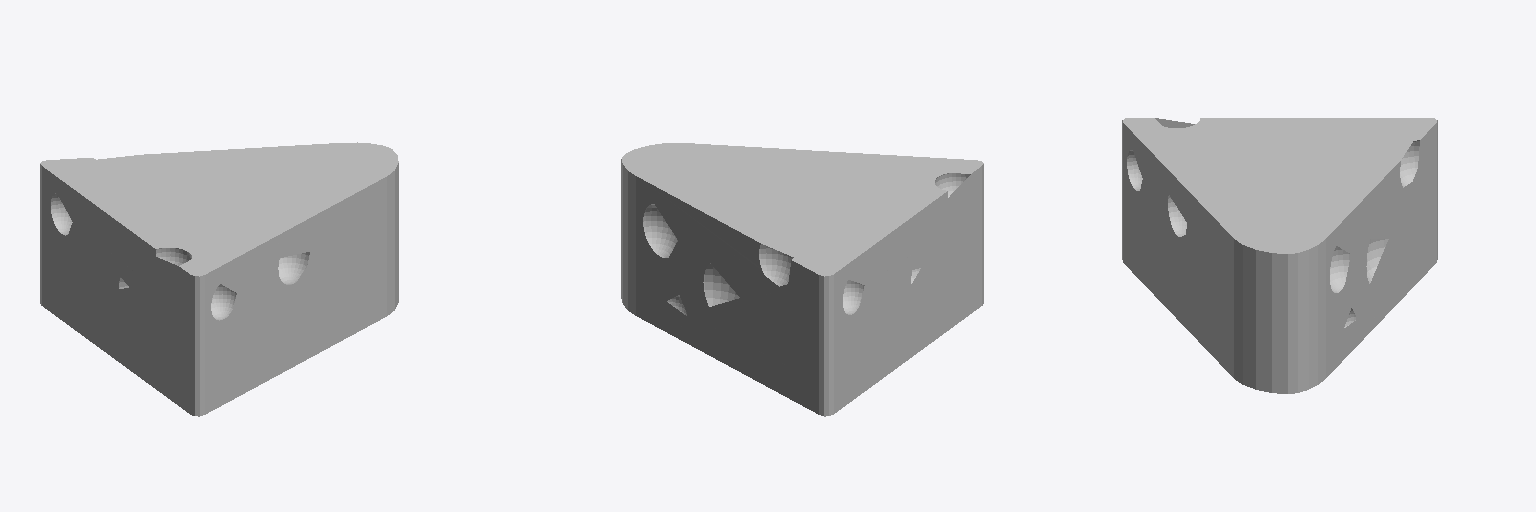
The model's file is kaas.obj.
The picture shows the model from 3 angles: view 1: azimuth 30°, elevation 25°; view 2: azimuth 150°, elevation 25°; view 3: azimuth 270°, elevation 25°; orthographic projection.
Visible parts, largest first — view 1: Cube; view 2: Cube; view 3: Cube.
Boxes of the visible parts, <box> form: Cube: <box>40,142,398,416</box>; Cube: <box>621,143,983,416</box>; Cube: <box>1122,118,1437,393</box>.
Bounding box in the file's own units: 2 × 0.9558 × 1.95.